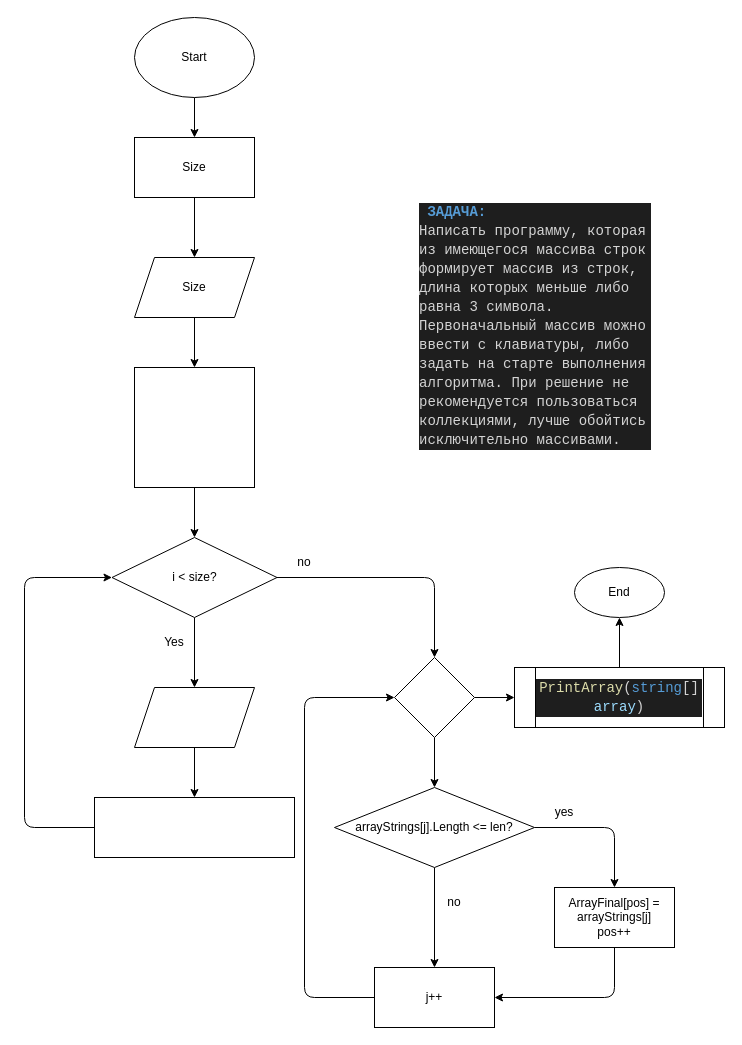
This 742x1045 diagram has some shape labels left out. The centre of each missing label's shape, as x and y in pixels:
"arrayStrings[i] = element i++" belongs at pixel 194 827.
"arrayStrings[size] arrayFinal[size] i = 0 j = 0 len = 3 pos = 0" belongs at pixel 194 427.
"element" belongs at pixel 194 717.
"j < size" belongs at pixel 434 697.
